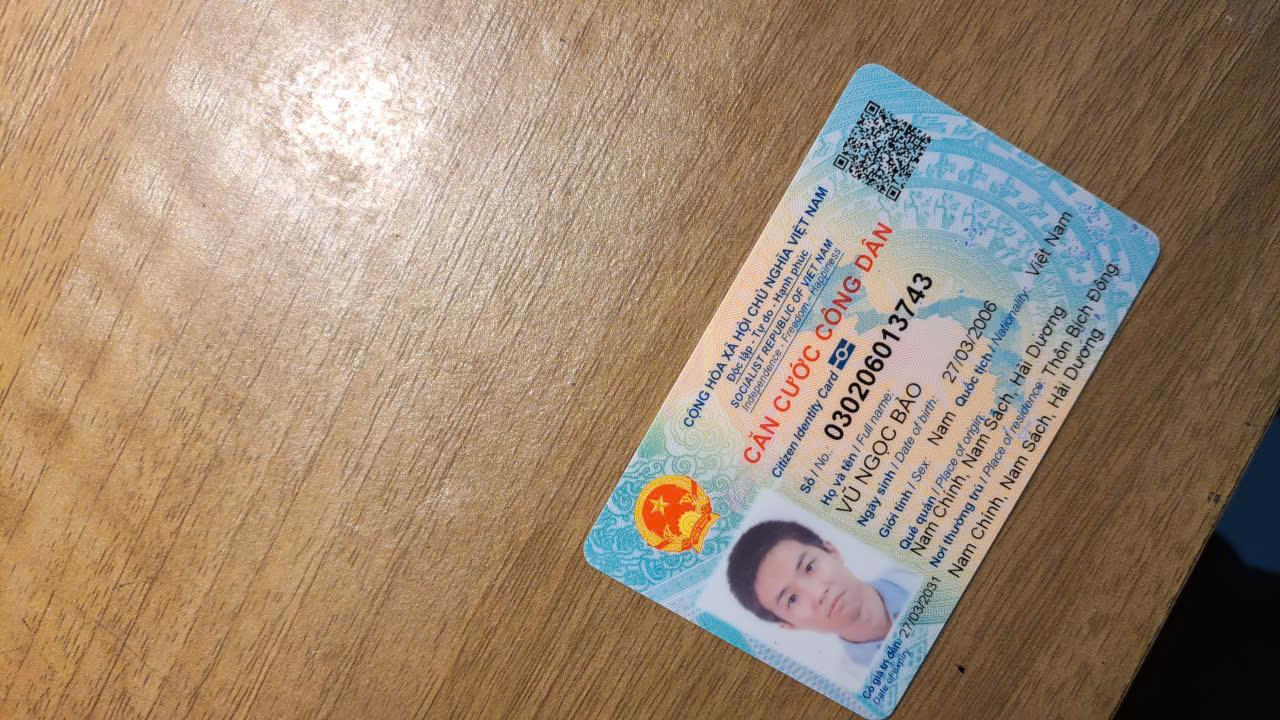cccd: (572, 58, 1179, 720)
